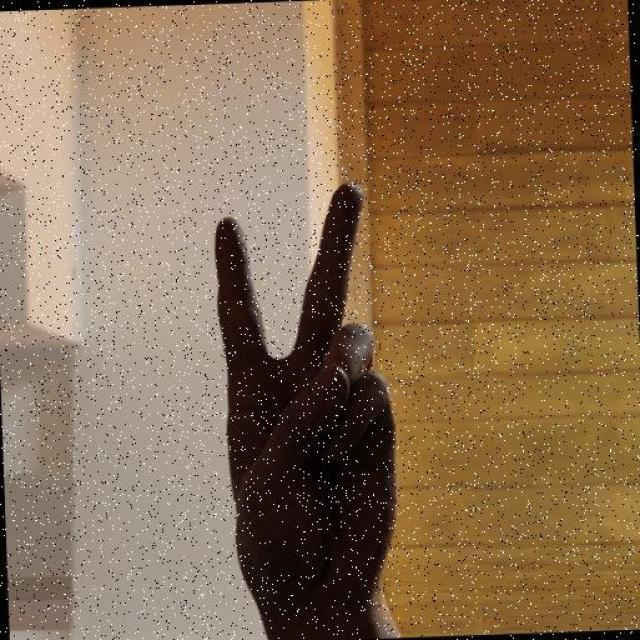V: (205, 176, 410, 619)
